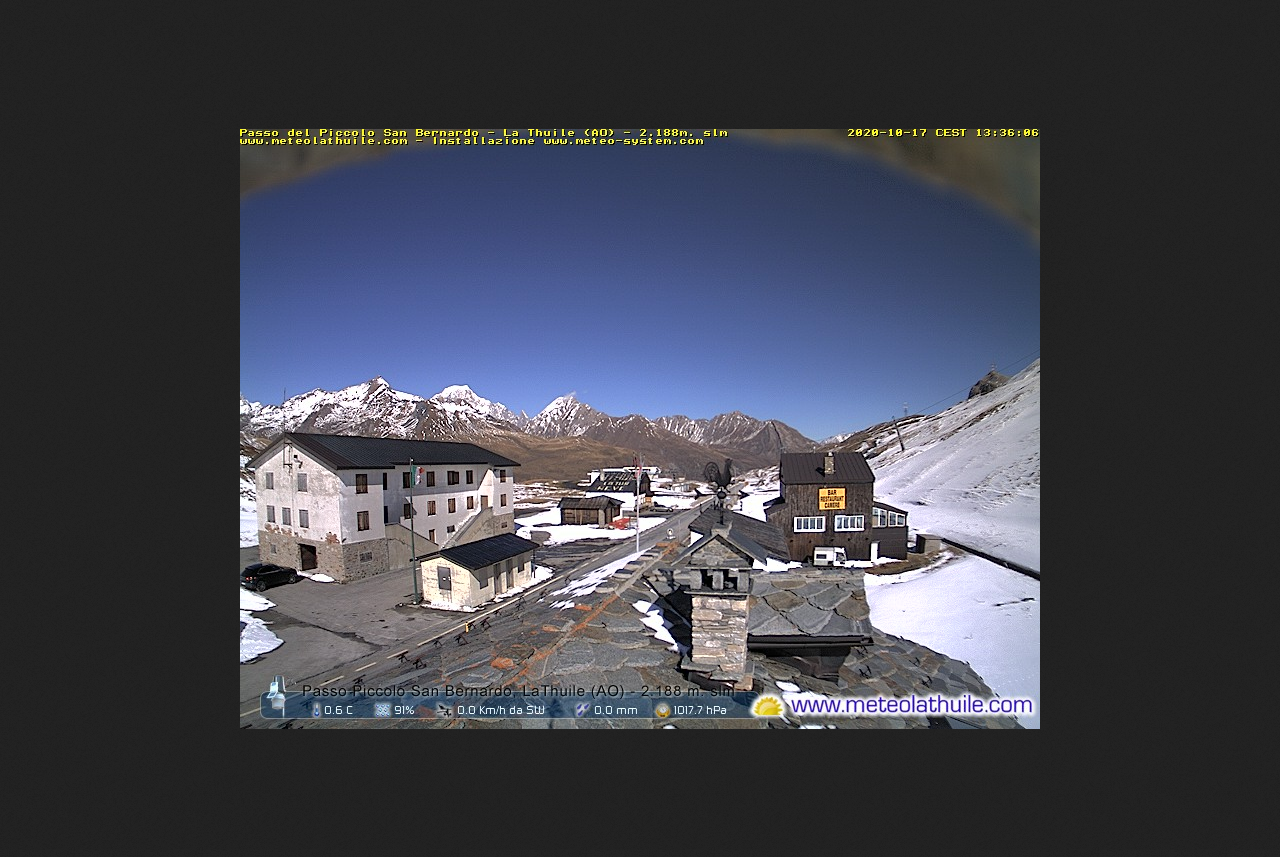maybe: (405, 462, 426, 490)
